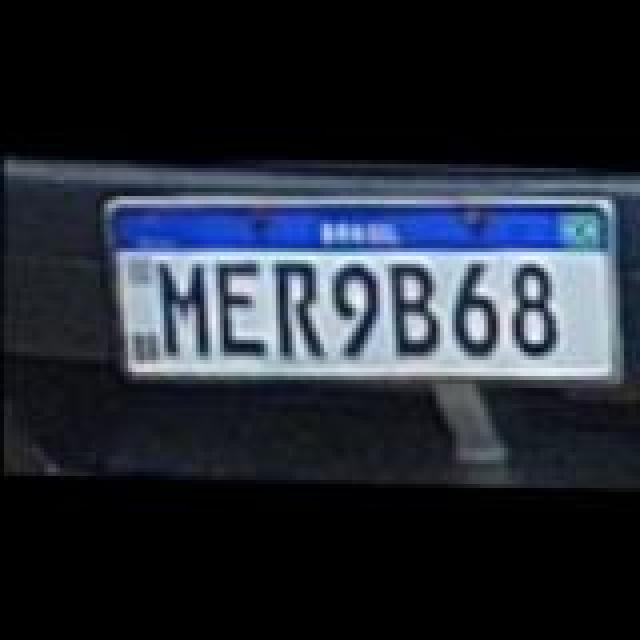6: (454, 260, 502, 356)
8: (514, 264, 562, 360)
9: (330, 262, 378, 358)
B: (388, 264, 440, 360)
E: (216, 264, 268, 360)
M: (160, 264, 212, 360)
R: (276, 260, 328, 360)
